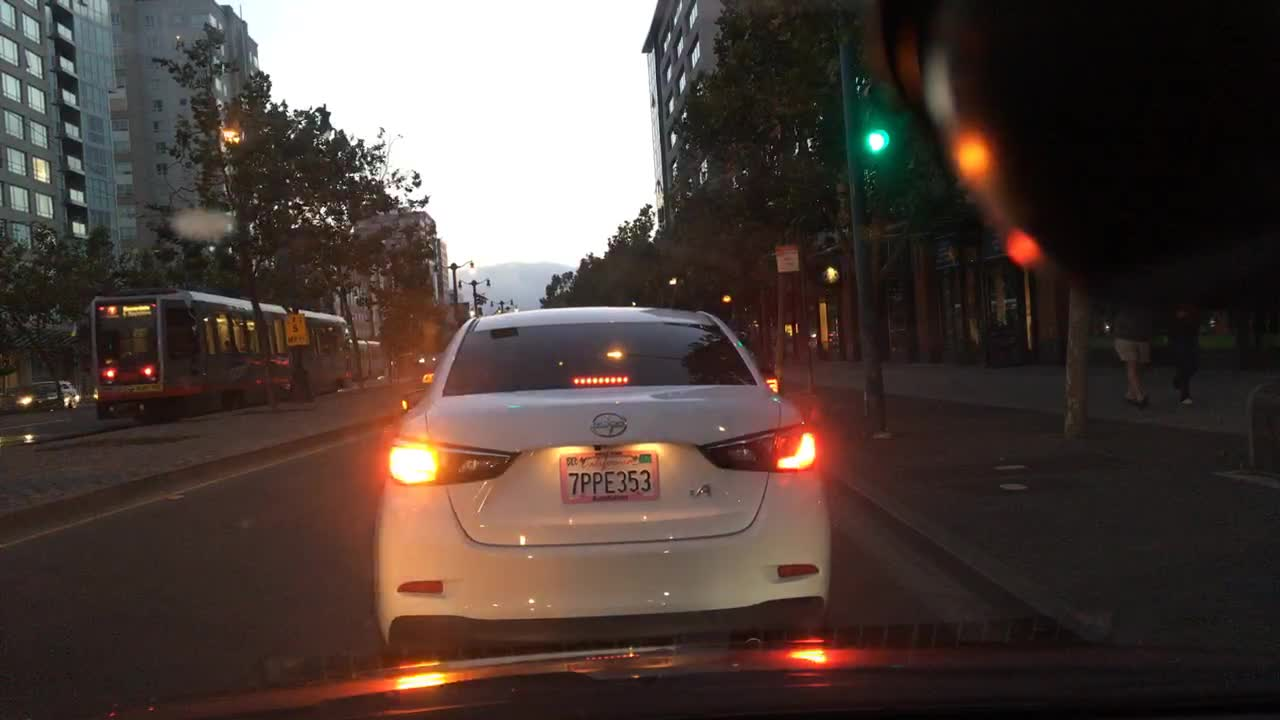bus: (86, 284, 350, 416)
car: (376, 298, 835, 666), (1, 380, 77, 415)
person: (1111, 316, 1156, 415), (1164, 306, 1207, 408)
traffic light: (862, 86, 885, 160)
traffic sign: (283, 313, 310, 346), (776, 244, 801, 273)
